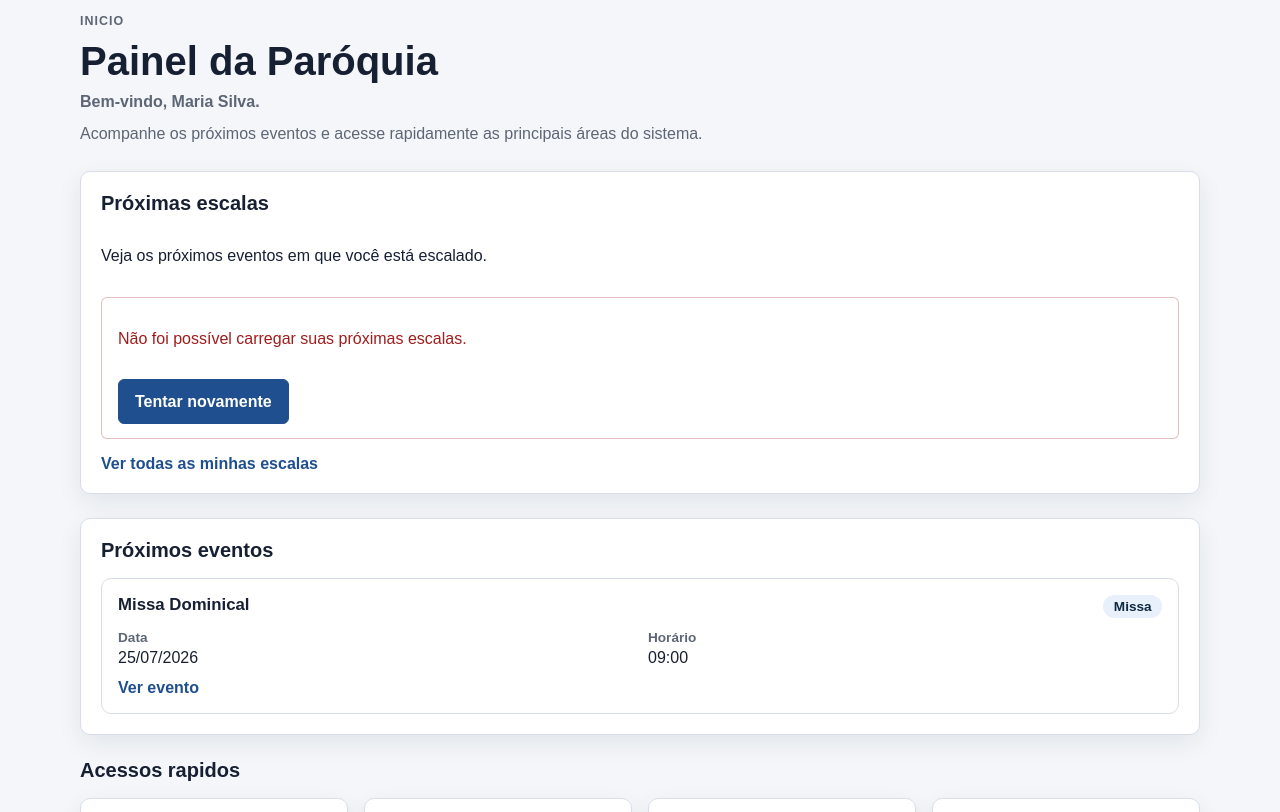
Test: HomeComponent › Próximas escalas › should reload user schedules when the retry button is clicked
Step 1. Click the button with class "home__button" → (203, 402), box [118,379,289,424]
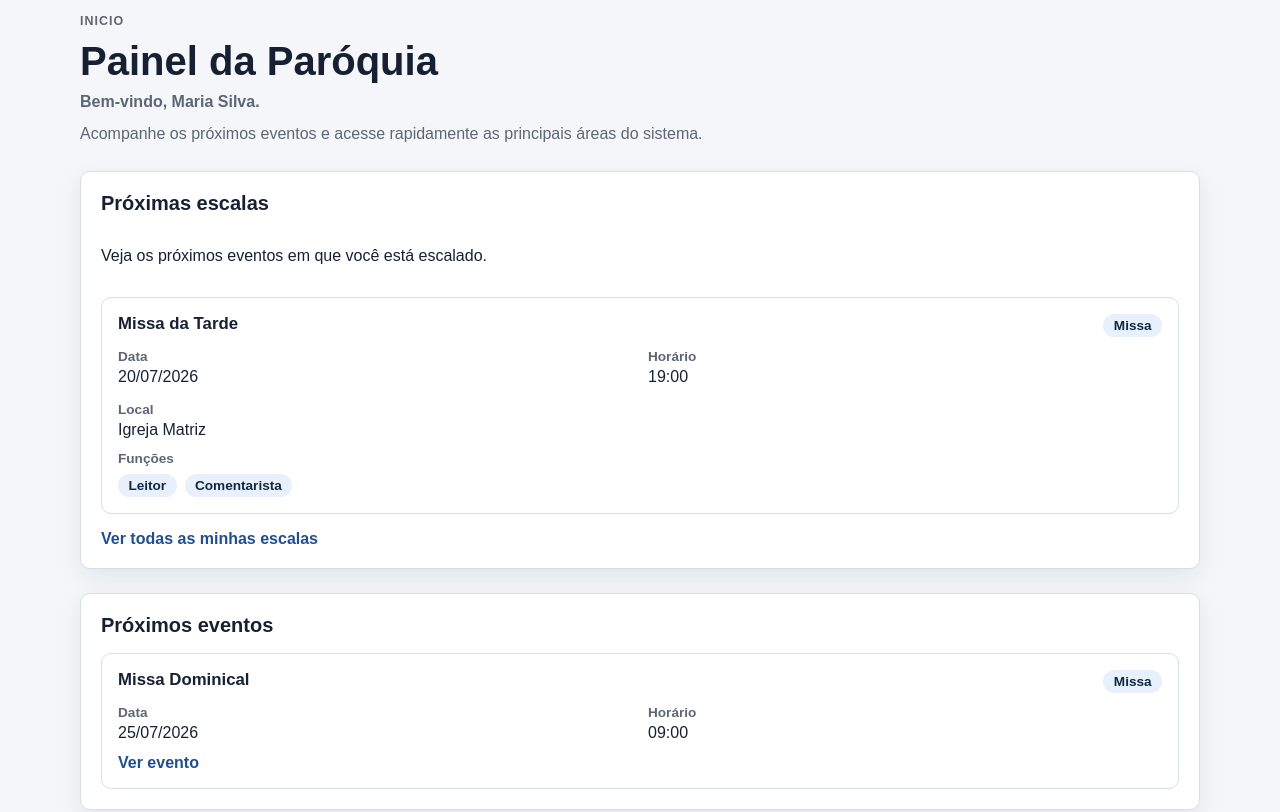
Now the text "Missa da Tarde" is shown, box [118,314,238,334]
Now the text "Não foi possível carregar suas próximas escalas." is gone
